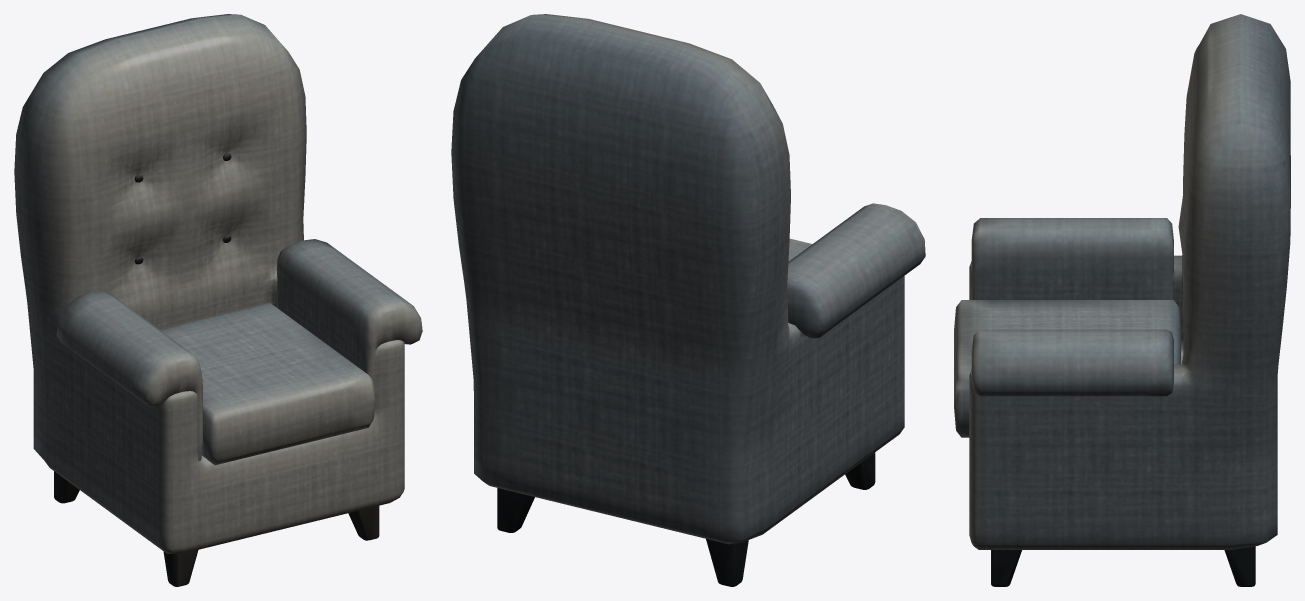
File: sofa2.obj
3 views of the same model, side by side, from view 1: azimuth 30°, elevation 25°; view 2: azimuth 150°, elevation 25°; view 3: azimuth 270°, elevation 25° (orthographic). The views are drawn at different scales.
Size of the model in its own units: 1.68 by 2.59 by 1.63.
1 material, 1 textured.
